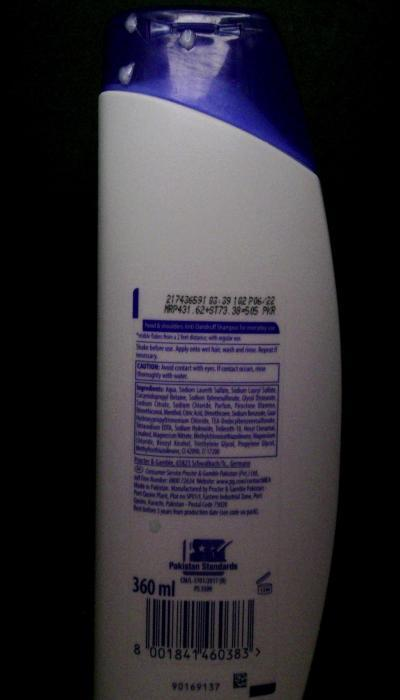pob_marg: (145, 15, 179, 47), (112, 60, 140, 97), (118, 10, 146, 43), (179, 25, 203, 54), (143, 515, 167, 542)
